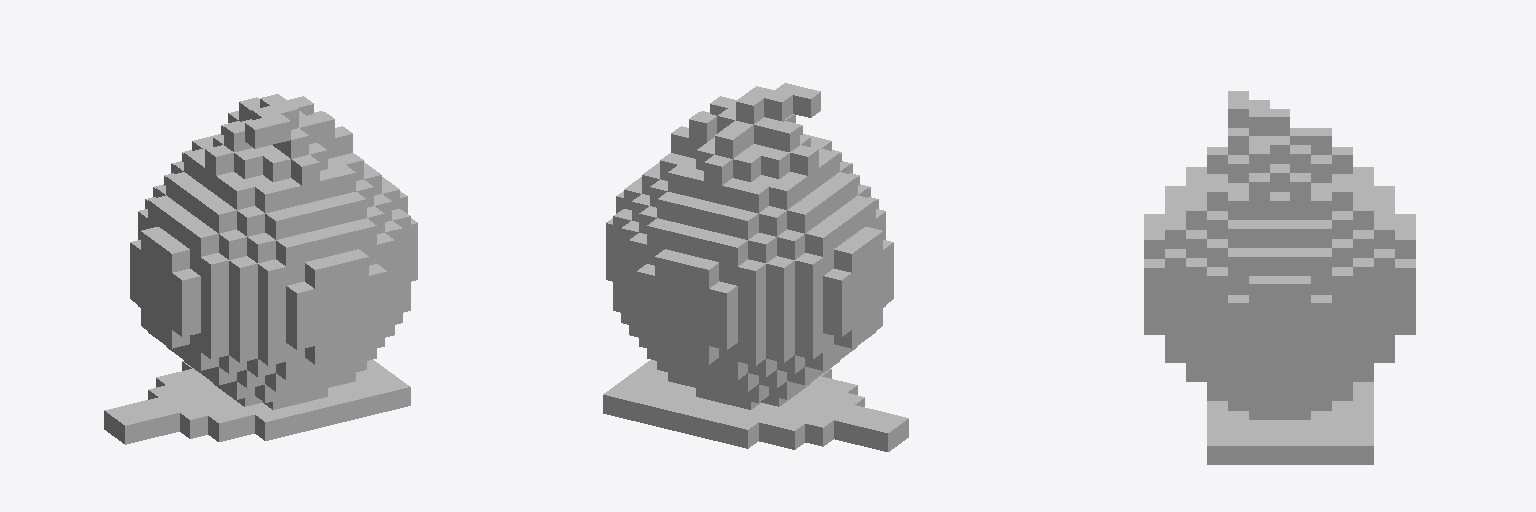
The model's file is hardcook_cutting_board_with_tomato.obj.
3 views of the same model, side by side, from view 1: azimuth 30°, elevation 25°; view 2: azimuth 150°, elevation 25°; view 3: azimuth 270°, elevation 25° (orthographic).
Parts seen in each view (by area): view 1: node_0_0_0.007, node_0_0_0.003; view 2: node_0_0_0.007, node_0_0_0.003; view 3: node_0_0_0.007, node_0_0_0.003.
Boxes of the visible parts, x1,y1,x2,y2 form: node_0_0_0.007: [130, 94, 417, 409]; node_0_0_0.003: [104, 360, 410, 444]; node_0_0_0.007: [606, 83, 893, 409]; node_0_0_0.003: [603, 360, 908, 451]; node_0_0_0.007: [1144, 91, 1415, 419]; node_0_0_0.003: [1207, 382, 1373, 464].
Bounding box in the file's own units: 0.9375 × 1 × 0.8125.